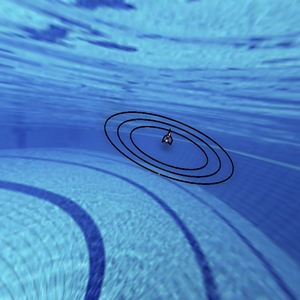circle: (99, 93, 239, 198)
submarine: (150, 123, 178, 149)
